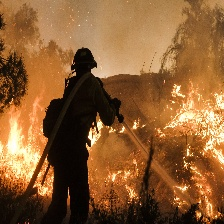fire: (164, 81, 224, 161), (3, 100, 53, 187), (107, 166, 150, 204), (178, 179, 214, 217), (87, 121, 116, 150)
